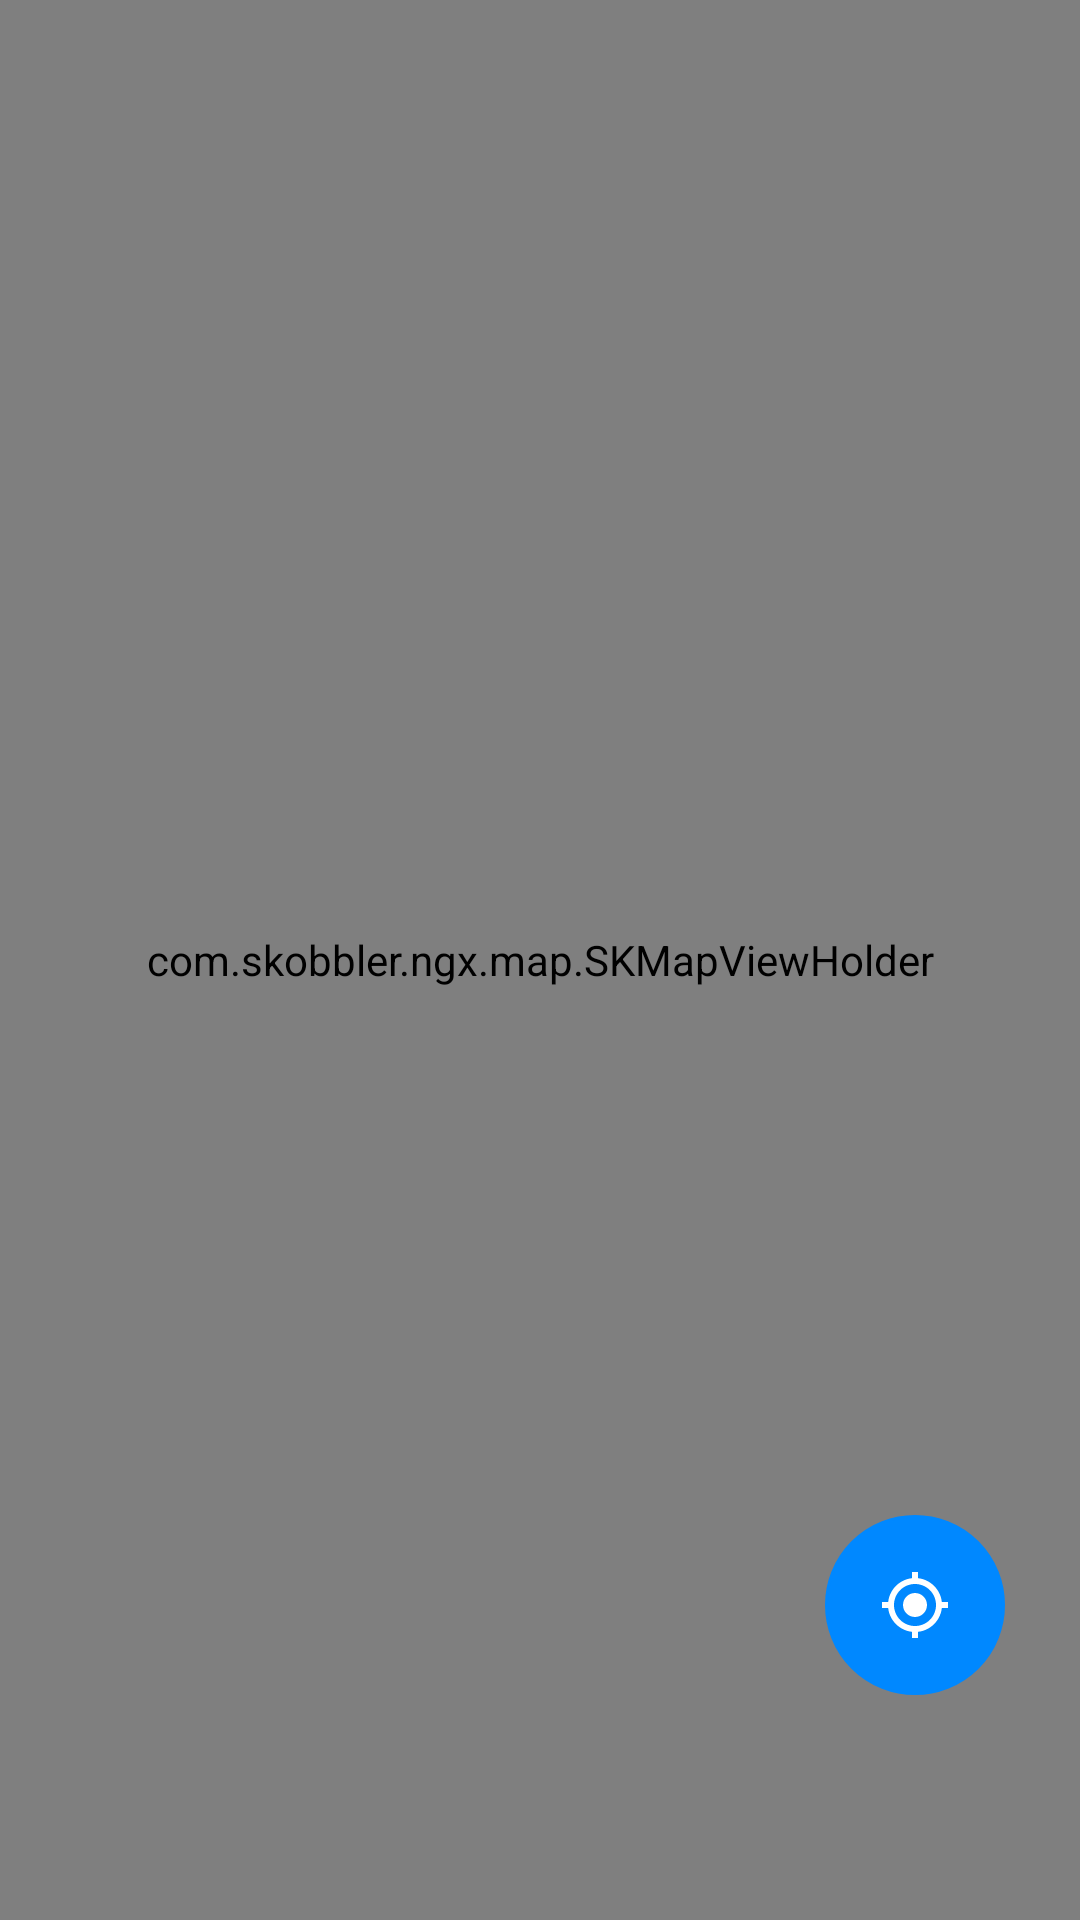

Where to tap for icons on this 1080*1920 app screen, as [x,y]:
gps fixed: [915,1605]
